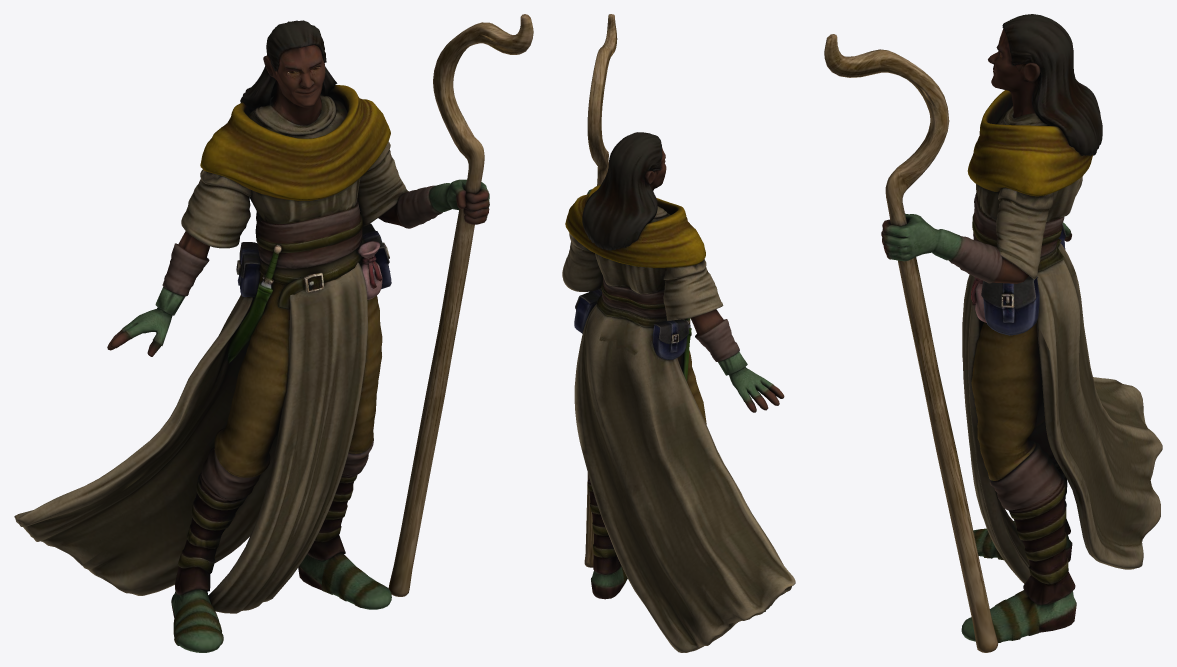
The model's file is MZ4250 - Druid Male_B.glb.
3 views of the same model, side by side, from view 1: azimuth 30°, elevation 25°; view 2: azimuth 150°, elevation 25°; view 3: azimuth 270°, elevation 25° (orthographic). The views are drawn at different scales.
Parts seen in each view (by area): view 1: Pouch Generic 2.001; view 2: Pouch Generic 2.001; view 3: Pouch Generic 2.001.
Part boxes in pixels (box(x1,y1,x2,y2)): Pouch Generic 2.001: box(14, 14, 533, 652); Pouch Generic 2.001: box(562, 14, 795, 652); Pouch Generic 2.001: box(824, 14, 1162, 652).
Bounding box in the file's own units: 0.6186 × 0.9968 × 0.47.
Materials: 1 (1 with a texture image).
